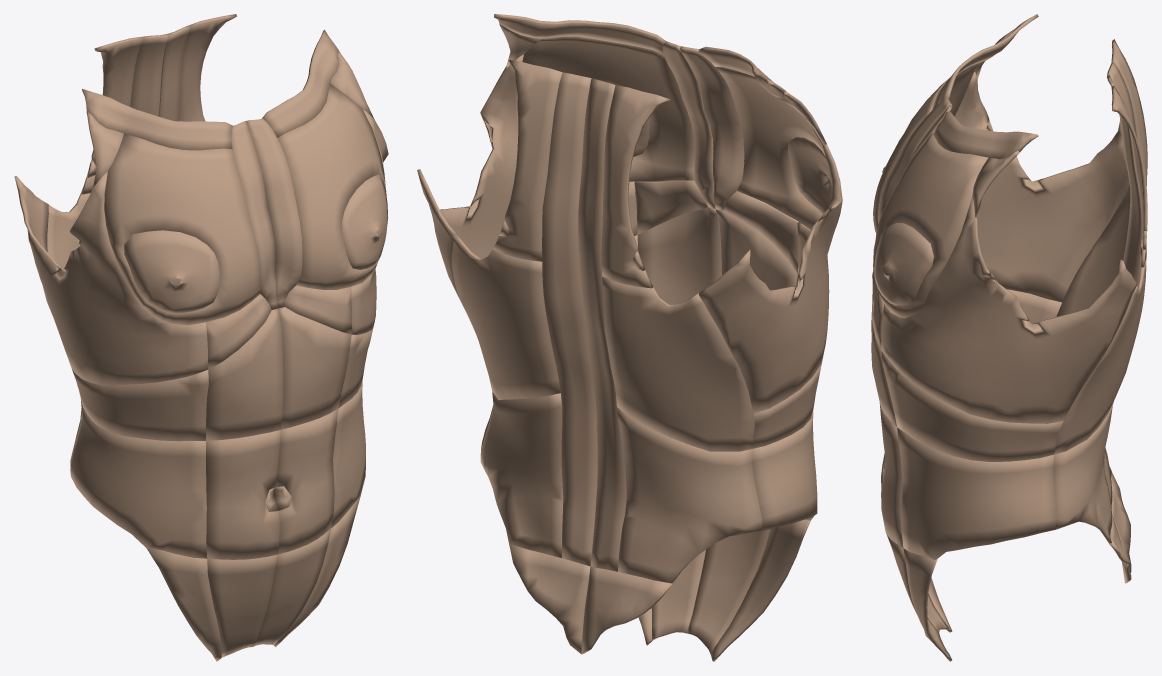
File: detail-integumentary-trunk.glb
The picture shows the model from 3 angles, left to right: view 1: azimuth 30°, elevation 25°; view 2: azimuth 150°, elevation 25°; view 3: azimuth 270°, elevation 25°; orthographic projection. The views are drawn at different scales.
Parts seen in each view (by area): view 1: za-ebd3e1765a4100b6, za-df36c6532749c47e, za-e4bdbadd2fb17a6f, za-17e7bc88280f530c, za-4321fe877f8fe298, za-ff0340aba83dc867, za-5f0cf27c10c815b4, za-fe6b8aa34ca3e9ce, za-18433a8c3be65589, za-091185553780d47c, za-adcefbf19ae06f31, za-dff88ae059a0b1ec (+19 smaller); view 2: za-5f215560d96c3946, za-35756f58ffdf15b7, za-ec5f4a42c929ab7c, za-ebd3e1765a4100b6, za-ea9854bf7d8ccc99, za-cf87493083b46636, za-9e3b57c85621778b, za-17e7bc88280f530c, za-69ed877510e6565f, za-df36c6532749c47e, za-4f4b9e5c0c7efa62, za-1ae00e40e396632f (+17 smaller); view 3: za-69ed877510e6565f, za-ebd3e1765a4100b6, za-845e0d8fe6a93309, za-17e7bc88280f530c, za-4ef194baf6d01718, za-cf87493083b46636, za-9e3b57c85621778b, za-89c5a5b3e2de7257, za-5f215560d96c3946, za-6c5225dbf37335bd, za-fe6b8aa34ca3e9ce, za-df36c6532749c47e (+14 smaller).
Boxes of the visible parts, <box> form: za-ebd3e1765a4100b6: <box>14,172,208,385</box>; za-df36c6532749c47e: <box>104,133,260,325</box>; za-e4bdbadd2fb17a6f: <box>70,400,207,558</box>; za-17e7bc88280f530c: <box>277,83,386,289</box>; za-4321fe877f8fe298: <box>206,430,280,559</box>; za-ff0340aba83dc867: <box>206,308,283,440</box>; za-5f0cf27c10c815b4: <box>72,369,208,441</box>; za-fe6b8aa34ca3e9ce: <box>275,409,338,554</box>; za-18433a8c3be65589: <box>278,307,351,429</box>; za-091185553780d47c: <box>124,230,219,313</box>; za-adcefbf19ae06f31: <box>207,554,277,657</box>; za-dff88ae059a0b1ec: <box>246,118,302,308</box>; za-5f215560d96c3946: <box>602,276,754,451</box>; za-35756f58ffdf15b7: <box>542,72,597,566</box>; za-ec5f4a42c929ab7c: <box>617,407,762,583</box>; za-ebd3e1765a4100b6: <box>698,125,842,413</box>; za-ea9854bf7d8ccc99: <box>578,78,626,571</box>; za-cf87493083b46636: <box>451,234,560,399</box>; za-9e3b57c85621778b: <box>480,392,563,557</box>; za-17e7bc88280f530c: <box>522,36,694,181</box>; za-69ed877510e6565f: <box>417,54,637,308</box>; za-df36c6532749c47e: <box>715,67,842,229</box>; za-4f4b9e5c0c7efa62: <box>492,59,562,261</box>; za-1ae00e40e396632f: <box>601,85,670,288</box>; za-69ed877510e6565f: <box>881,197,1136,423</box>; za-ebd3e1765a4100b6: <box>954,72,1129,302</box>; za-845e0d8fe6a93309: <box>897,427,1055,559</box>; za-17e7bc88280f530c: <box>873,133,988,318</box>; za-4ef194baf6d01718: <box>881,351,1063,461</box>; za-cf87493083b46636: <box>1054,246,1146,454</box>; za-9e3b57c85621778b: <box>1053,401,1113,543</box>; za-89c5a5b3e2de7257: <box>874,222,933,305</box>; za-5f215560d96c3946: <box>1056,185,1130,316</box>; za-6c5225dbf37335bd: <box>932,111,1038,159</box>; za-fe6b8aa34ca3e9ce: <box>879,403,903,547</box>; za-df36c6532749c47e: <box>873,59,987,233</box>.
Bounding box in the file's own units: 0.3614 × 0.6128 × 0.2672.
